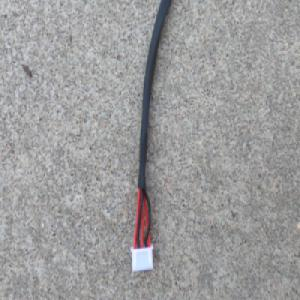Wire: (129, 0, 174, 277)
